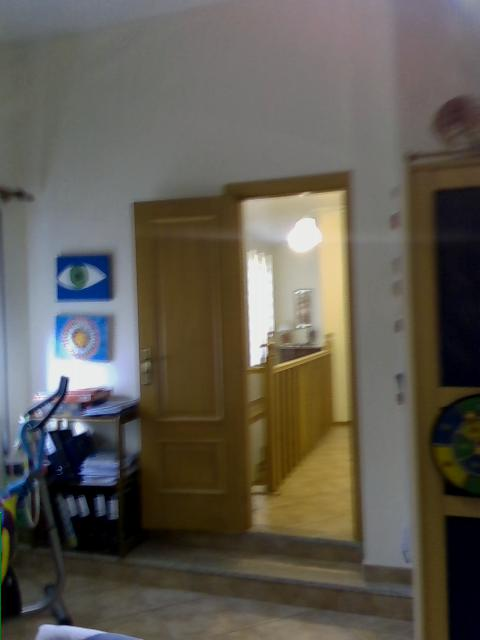open_door: (219, 168, 366, 547)
